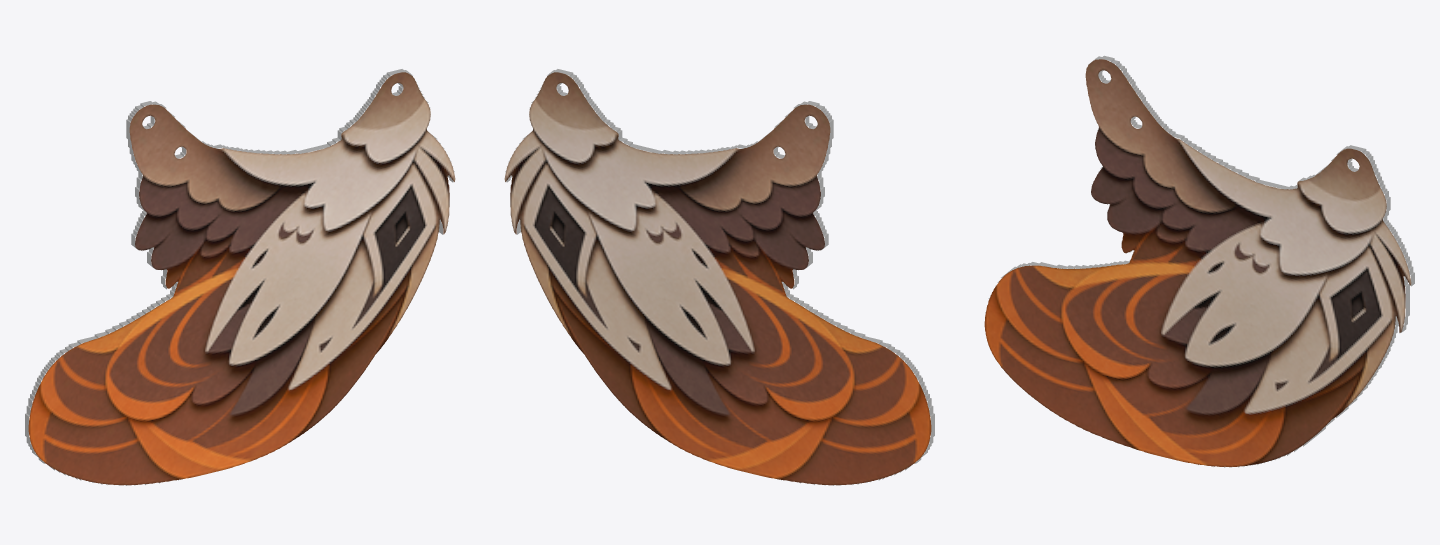
The model's file is TorsoMain.glb.
3 renders of one model, left to right at view 1: azimuth 30°, elevation 25°; view 2: azimuth 150°, elevation 25°; view 3: azimuth 330°, elevation 25°, orthographic.
Visible parts, largest first — view 1: PaperVolume; view 2: PaperVolume; view 3: PaperVolume.
Part boxes in pixels (x1,y1,x2,y2): PaperVolume: (25,69,455,485); PaperVolume: (504,69,934,485); PaperVolume: (984,55,1414,467).
Size of the model in its own units: 5.19 by 4.49 by 0.08.
3 materials, 2 textured.
